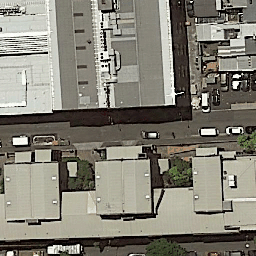car: (201, 90, 211, 113), (199, 127, 220, 136), (141, 130, 160, 139), (225, 125, 244, 134), (231, 73, 240, 91), (186, 1, 195, 18), (220, 74, 228, 92), (241, 73, 249, 91), (212, 89, 220, 106), (224, 251, 245, 255), (246, 126, 256, 134), (252, 74, 256, 92), (6, 250, 18, 256), (128, 252, 145, 255), (208, 252, 220, 256)
